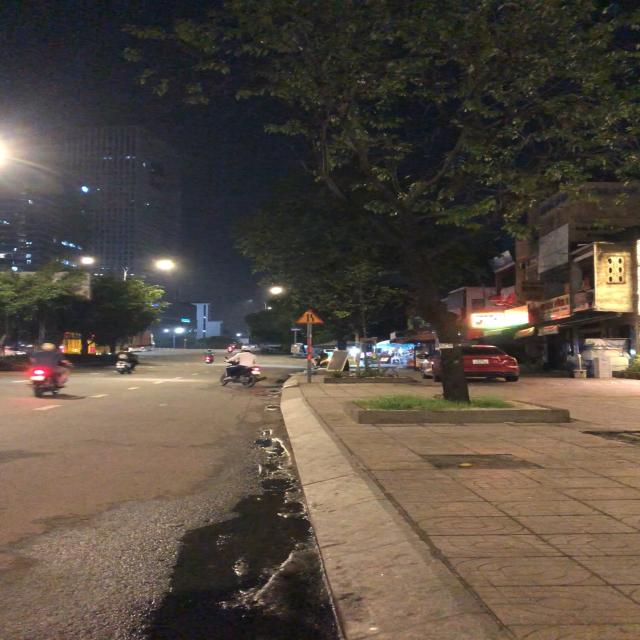Bien bao duong bi thu hep: (294, 307, 329, 325)
